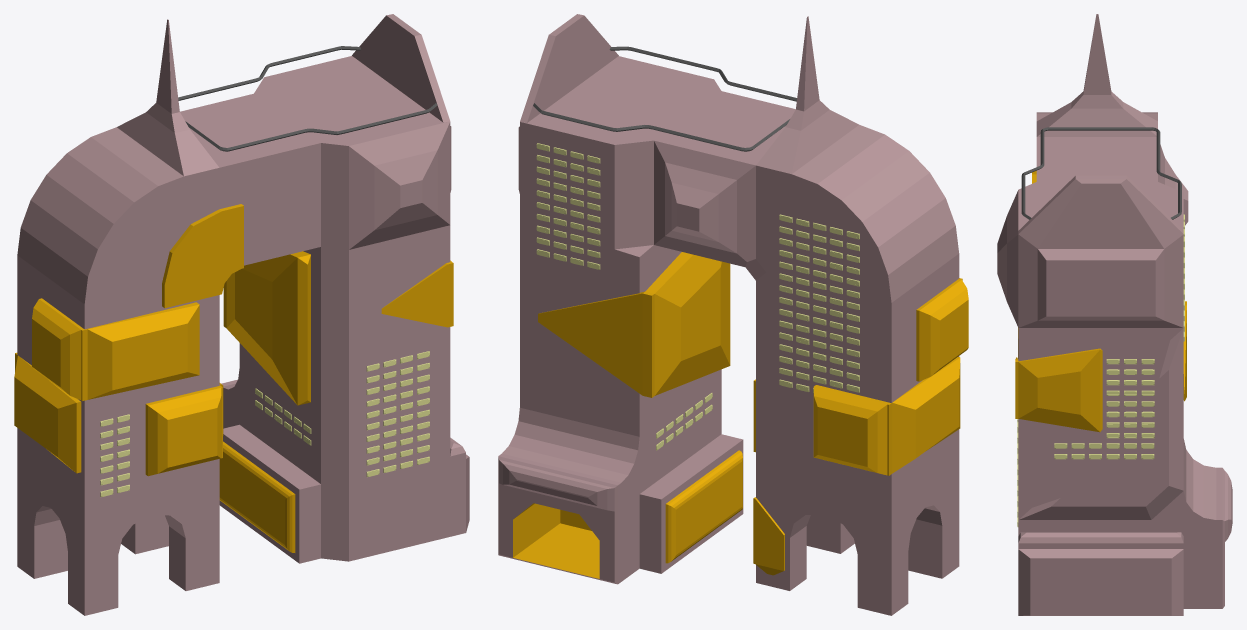
Rendered from Batiment2.fbx.
The picture shows the model from 3 angles, left to right: view 1: azimuth 30°, elevation 25°; view 2: azimuth 150°, elevation 25°; view 3: azimuth 270°, elevation 25°; orthographic projection. The views are drawn at different scales.
Parts seen in each view (by area): view 1: Cube, Cube.003, Cube.001, Cube.007, Cube.005, Cube.006, Light.034, Cube.002, Cylinder, Light.038, Light.035; view 2: Cube, Cube.001, Cube.006, Light.031, Cube.003, Light.032, Cylinder, Cube.008, Light.035; view 3: Cube, Cube.002, Light.037, Cylinder, Light.036.
Part boxes in pixels (x1=…): Cube: x1=17, y1=14, x2=469, y2=615; Cube.003: x1=32, y1=298, x2=199, y2=401; Cube.001: x1=223, y1=251, x2=310, y2=405; Cube.007: x1=162, y1=204, x2=243, y2=308; Cube.005: x1=145, y1=383, x2=223, y2=476; Cube.006: x1=14, y1=352, x2=81, y2=473; Light.034: x1=366, y1=351, x2=429, y2=477; Cube.002: x1=381, y1=260, x2=453, y2=327; Cylinder: x1=178, y1=46, x2=437, y2=151; Light.038: x1=100, y1=414, x2=129, y2=496; Light.035: x1=255, y1=388, x2=311, y2=445; Cube: x1=498, y1=14, x2=959, y2=615; Cube.001: x1=538, y1=252, x2=730, y2=397; Cube.006: x1=813, y1=357, x2=960, y2=475; Light.031: x1=779, y1=214, x2=859, y2=392; Cube.003: x1=916, y1=278, x2=968, y2=381; Light.032: x1=536, y1=143, x2=600, y2=269; Cylinder: x1=533, y1=46, x2=796, y2=151; Cube.008: x1=753, y1=497, x2=784, y2=575; Light.035: x1=656, y1=393, x2=712, y2=450; Cube: x1=997, y1=14, x2=1232, y2=615; Cube.002: x1=1015, y1=348, x2=1102, y2=432; Light.037: x1=1106, y1=359, x2=1154, y2=438; Cylinder: x1=1021, y1=127, x2=1181, y2=219; Light.036: x1=1054, y1=443, x2=1154, y2=459.
Bounding box in the file's own units: 326 × 425 × 185.
